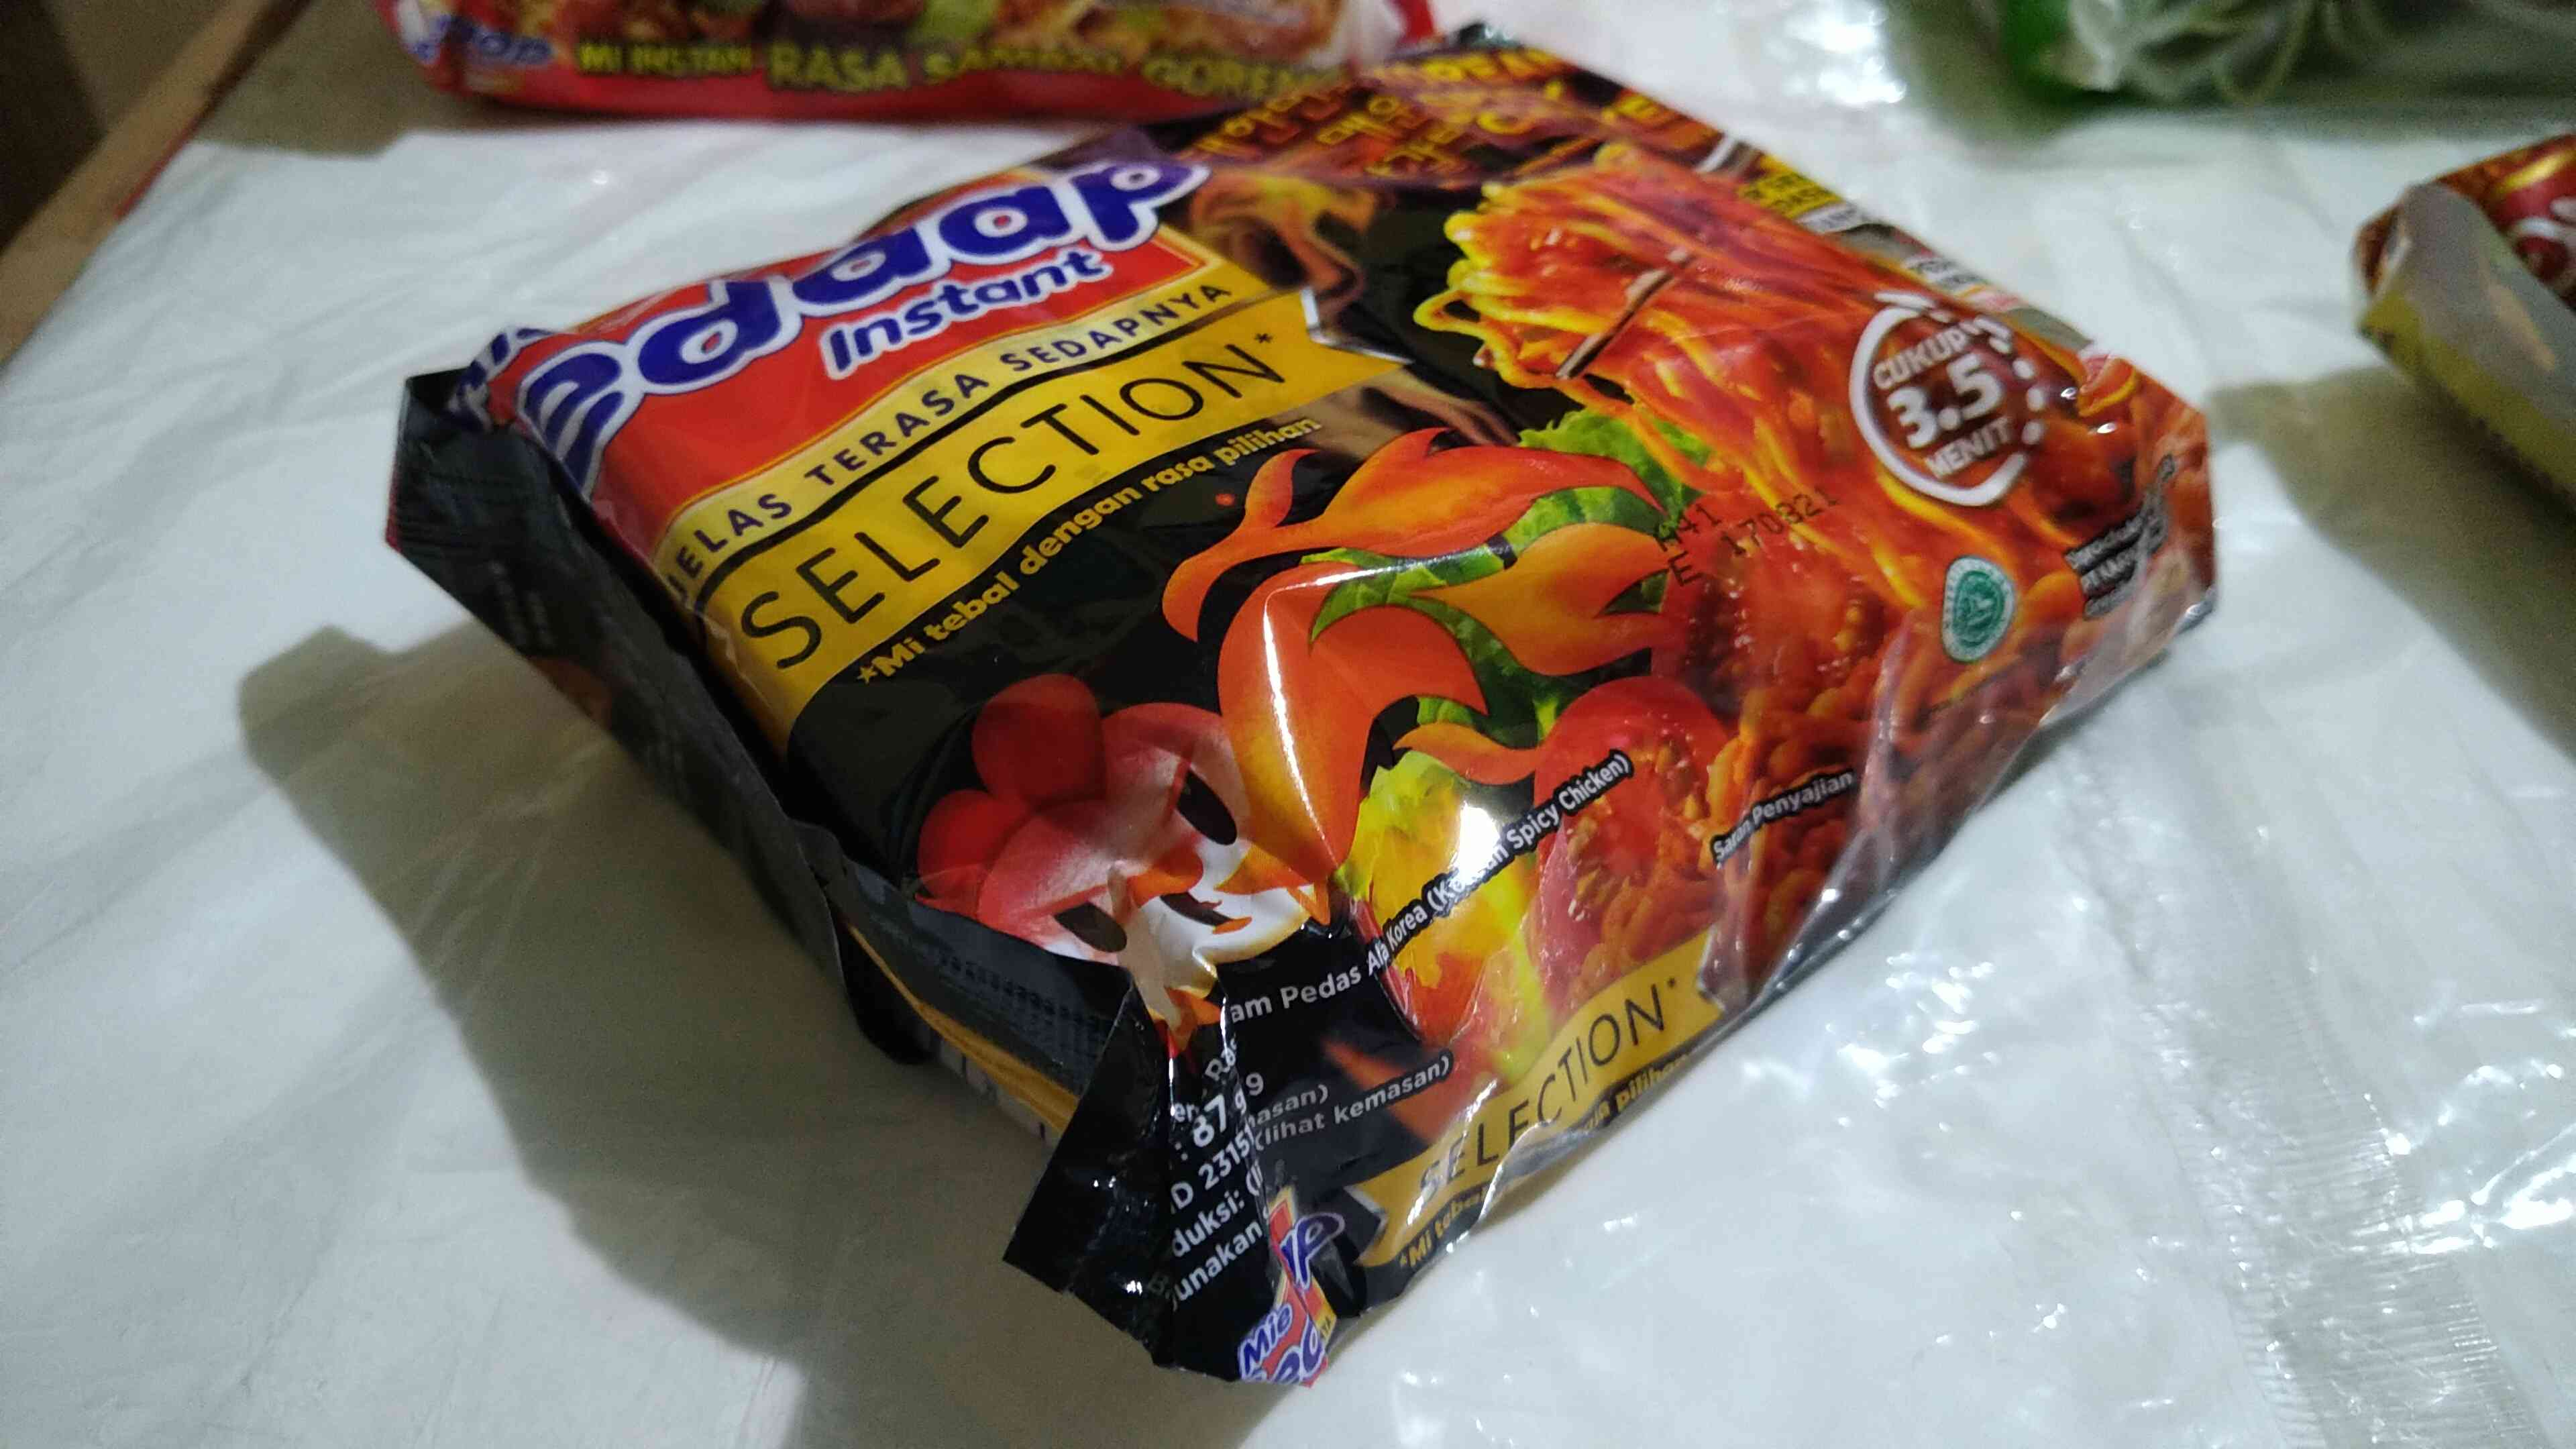sedaap spicy: (387, 34, 2226, 1369)
